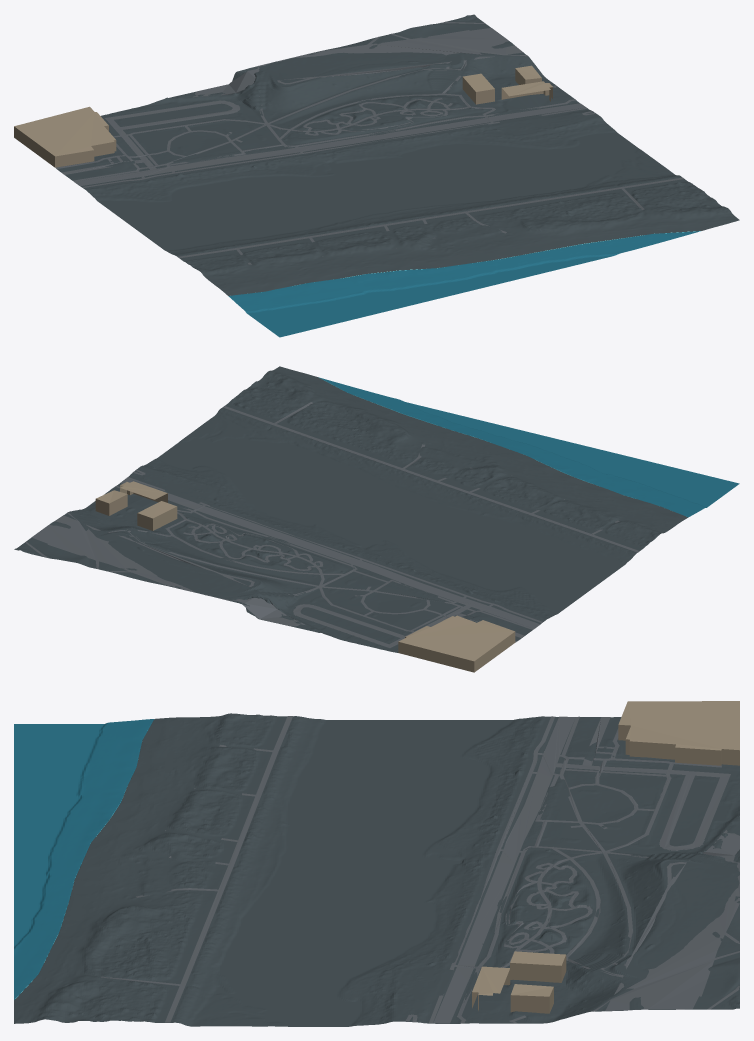
The model's file is epsg26910-1426-10896.lod0.glb.
3 renders of one model, top to bottom at view 1: azimuth 30°, elevation 25°; view 2: azimuth 150°, elevation 25°; view 3: azimuth 270°, elevation 25°, orthographic. The views are drawn at different scales.
Parts seen in each view (by area): view 1: epsg26910-1426-10896-lod0; view 2: epsg26910-1426-10896-lod0; view 3: epsg26910-1426-10896-lod0.
Part boxes in pixels (x1,y1,x2,y2): epsg26910-1426-10896-lod0: (14,14,739,337); epsg26910-1426-10896-lod0: (14,366,739,672); epsg26910-1426-10896-lod0: (14,701,739,1026).
Size of the model in its own units: 384 by 15.28 by 384.
